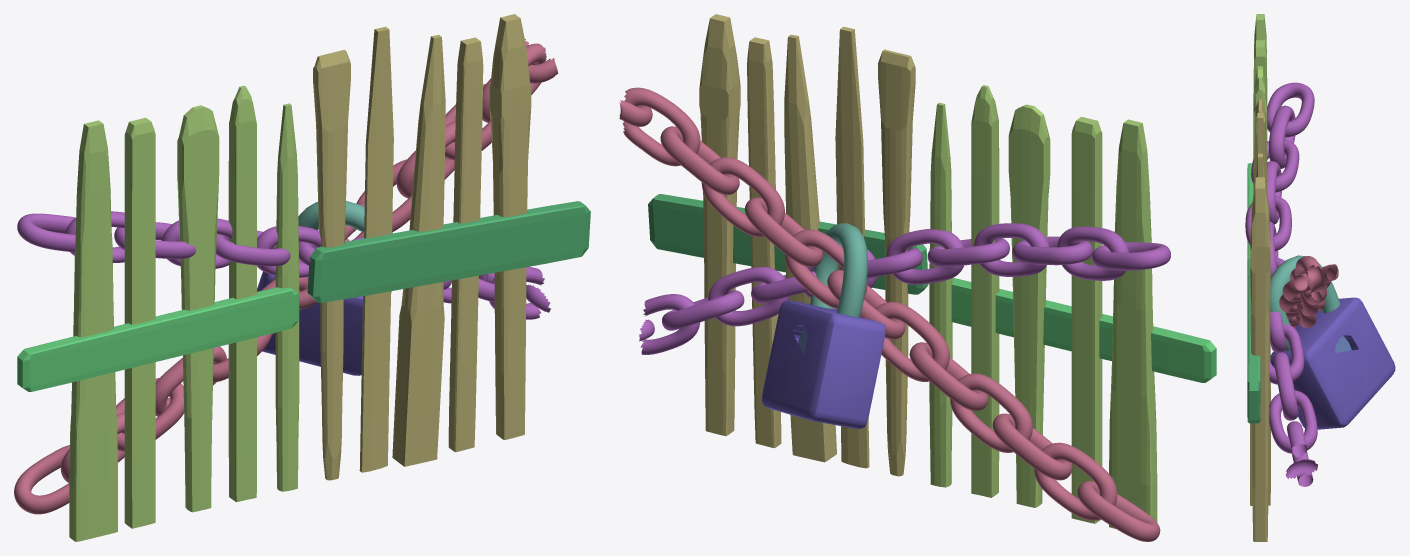
The model's file is Gate.fbx.
The picture shows the model from 3 angles, left to right: view 1: azimuth 30°, elevation 25°; view 2: azimuth 150°, elevation 25°; view 3: azimuth 270°, elevation 25°; orthographic projection. The views are drawn at different scales.
Parts seen in each view (by area): view 1: Cube.042, Cube.011, Cube.044, Cube.043, Cube.037, Cube.019, Cube.033, Cube.029, Cube.016, Cube.017, Cube.031, Cube.028 (+4 smaller); view 2: Cube.042, Cube.011, Cube.037, Cube.043, Cube.044, Cube.005, Cube.009, Cube.016, Cube.018, Cube.007, Cube.014, Cube.019 (+17 smaller); view 3: Cube.037, Cube.011, Cube.033, Cube.023, Cube.042, Cube.044, Cube.005, Cube.024, Cube.032, Cube.007, Cube.029, Cube.025 (+12 smaller).
Part boxes in pixels (box(x1,y1,x2,y2)): Cube.042: box(69, 85, 299, 541); Cube.011: box(313, 14, 531, 480); Cube.044: box(307, 201, 590, 302); Cube.043: box(17, 287, 298, 391); Cube.037: box(257, 271, 391, 375); Cube.019: box(14, 445, 69, 514); Cube.033: box(17, 213, 75, 252); Cube.029: box(216, 230, 290, 266); Cube.016: box(155, 346, 226, 416); Cube.017: box(116, 378, 183, 451); Cube.031: box(114, 222, 196, 258); Cube.028: box(257, 226, 320, 277); Cube.042: box(929, 85, 1157, 528); Cube.011: box(699, 14, 915, 476); Cube.037: box(761, 300, 885, 429); Cube.043: box(951, 277, 1216, 382); Cube.044: box(648, 194, 928, 294); Cube.005: box(810, 223, 867, 317); Cube.009: box(701, 157, 784, 236); Cube.016: box(950, 373, 1032, 452); Cube.018: box(1034, 442, 1117, 520); Cube.007: box(622, 87, 700, 166); Cube.014: box(875, 302, 949, 381); Cube.019: box(1077, 481, 1160, 541); Cube.037: box(1270, 297, 1395, 429); Cube.011: box(1250, 99, 1270, 541); Cube.033: box(1267, 82, 1314, 137); Cube.023: box(1269, 390, 1317, 453); Cube.042: box(1253, 14, 1267, 194); Cube.044: box(1247, 258, 1260, 423); Cube.005: box(1270, 255, 1340, 351); Cube.024: box(1273, 352, 1298, 420); Cube.032: box(1269, 105, 1295, 168); Cube.007: box(1295, 256, 1326, 304); Cube.029: box(1245, 196, 1291, 251); Cube.025: box(1269, 324, 1304, 384).
Bounding box in the file's own units: 284 × 209 × 76.69.
